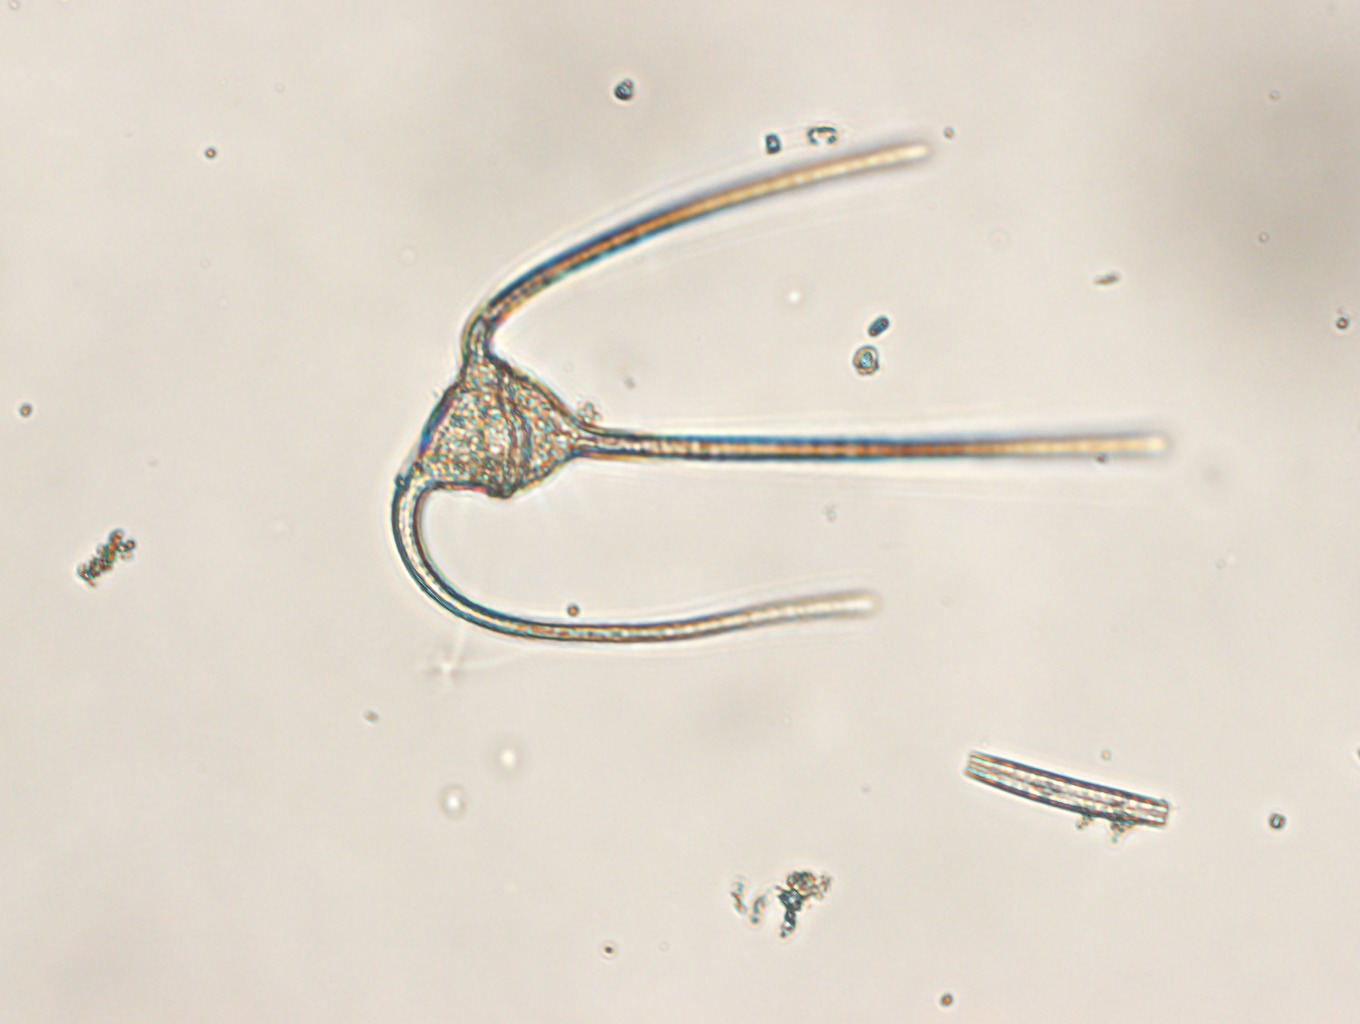ceratium trichoceros: (391, 133, 1176, 642)
